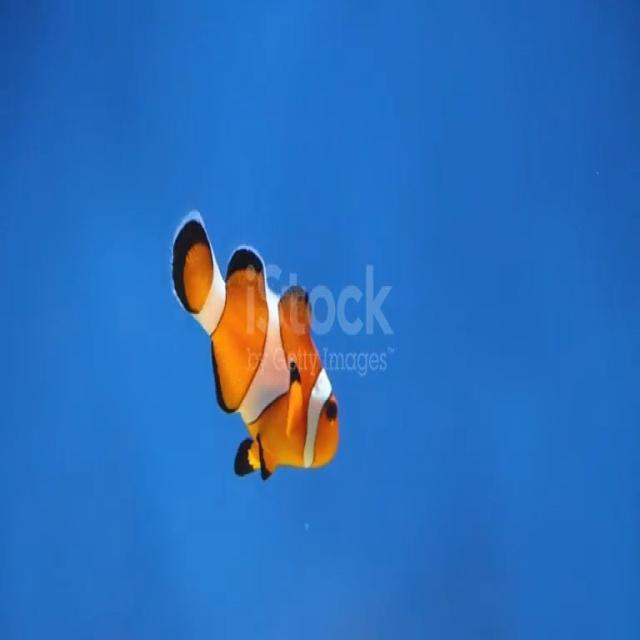fish: (169, 200, 347, 494)
